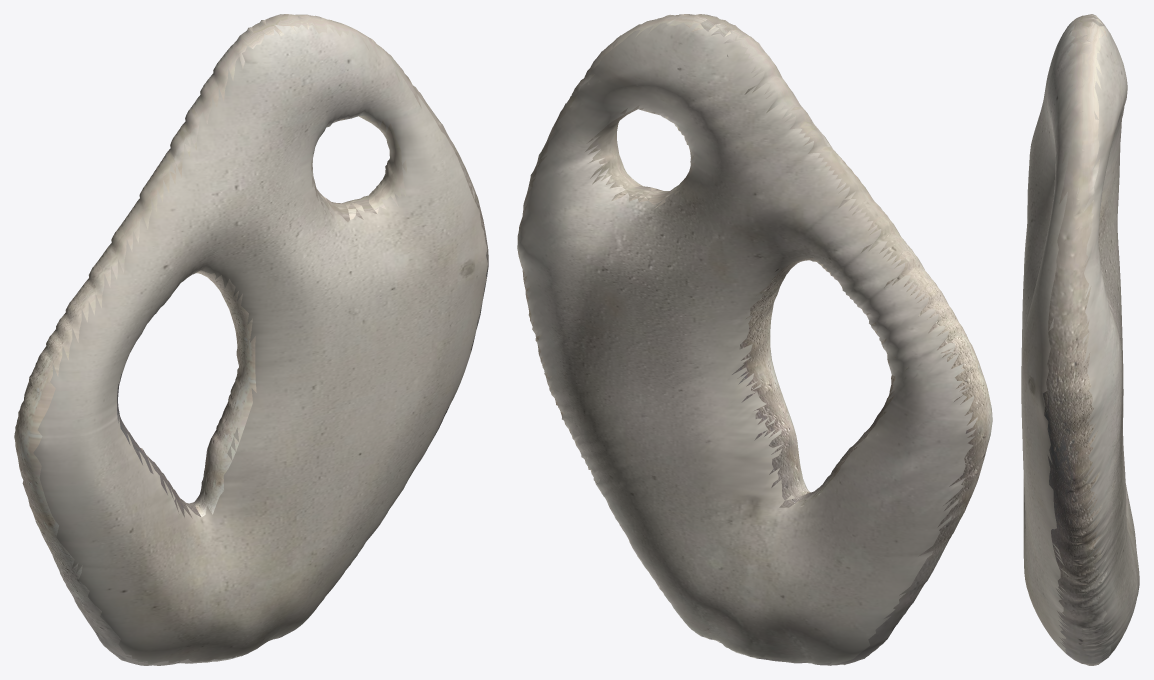
The model's file is hy3d-esc-011.glb.
3 renders of one model, left to right at view 1: azimuth 30°, elevation 25°; view 2: azimuth 150°, elevation 25°; view 3: azimuth 270°, elevation 25°, orthographic. The views are drawn at different scales.
Parts seen in each view (by area): view 1: world; view 2: world; view 3: world.
Boxes of the visible parts, <box> form: world: <box>14,14,488,665</box>; world: <box>517,14,992,665</box>; world: <box>1021,14,1139,665</box>.
Size of the model in its own units: 0.2927 by 0.3741 by 0.0621.
1 material, 1 textured.
